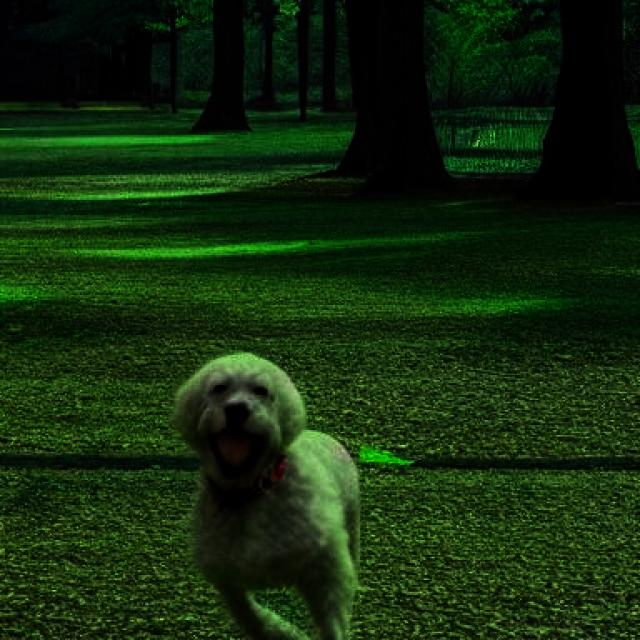Dog: (172, 351, 362, 640)
